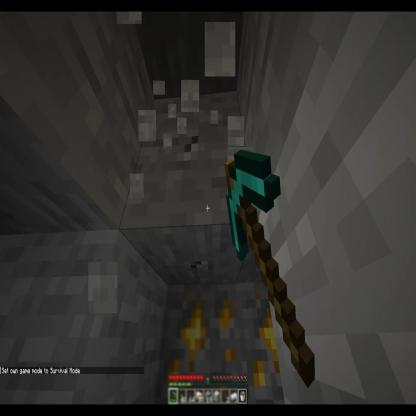gold ore: (156, 281, 240, 416), (238, 280, 280, 416)
